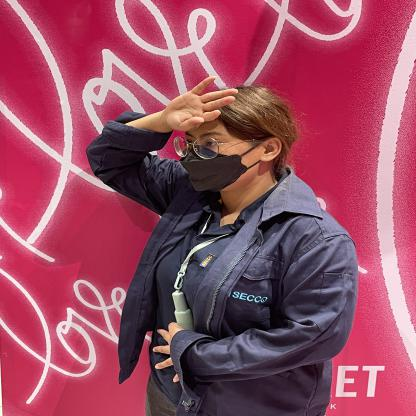Sick: (83, 64, 277, 154)
